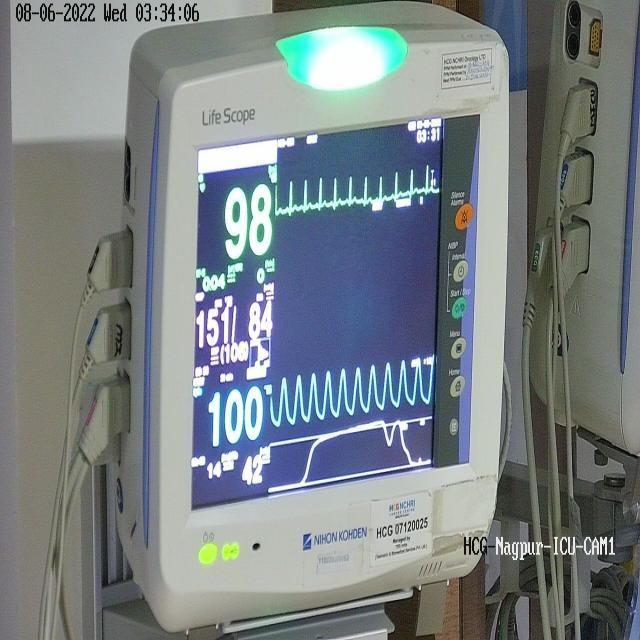Monitor: (109, 4, 511, 634)
